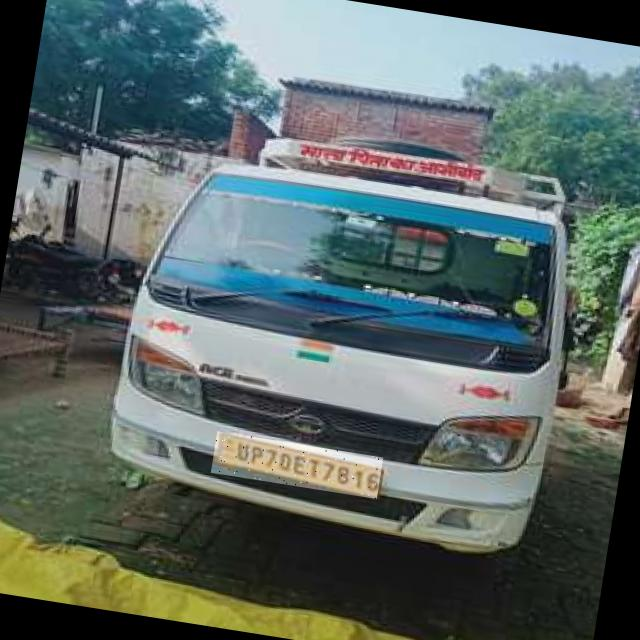Plate: (212, 432, 385, 500)
